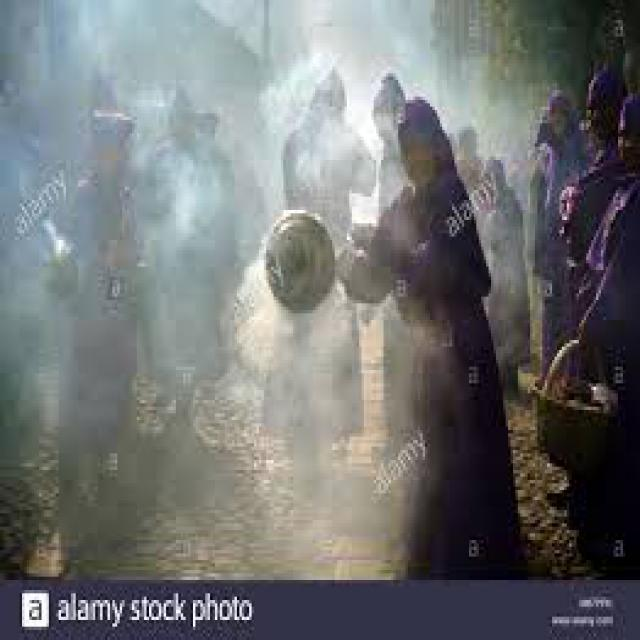smoke: (27, 267, 376, 553)
